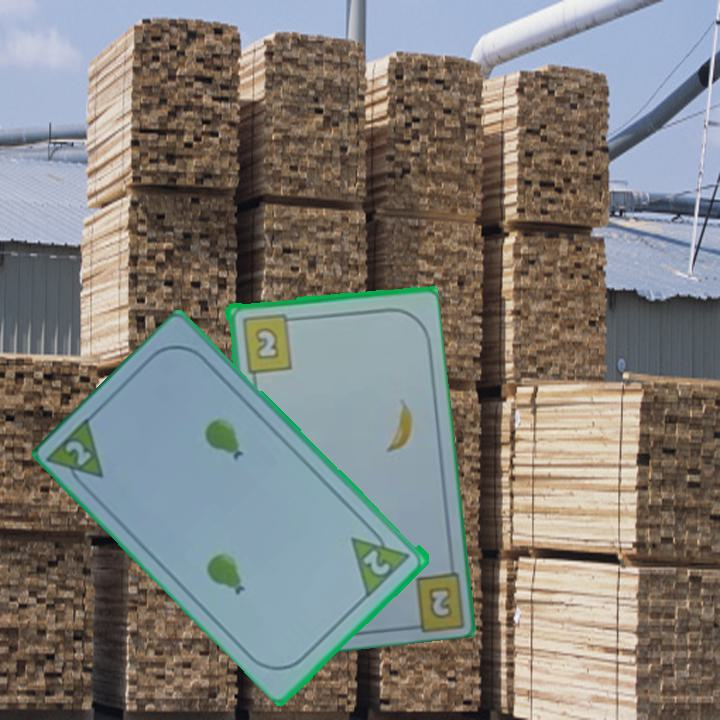2b: (401, 564, 466, 631), (238, 310, 299, 375)
2p: (347, 520, 414, 599), (46, 412, 108, 497)
